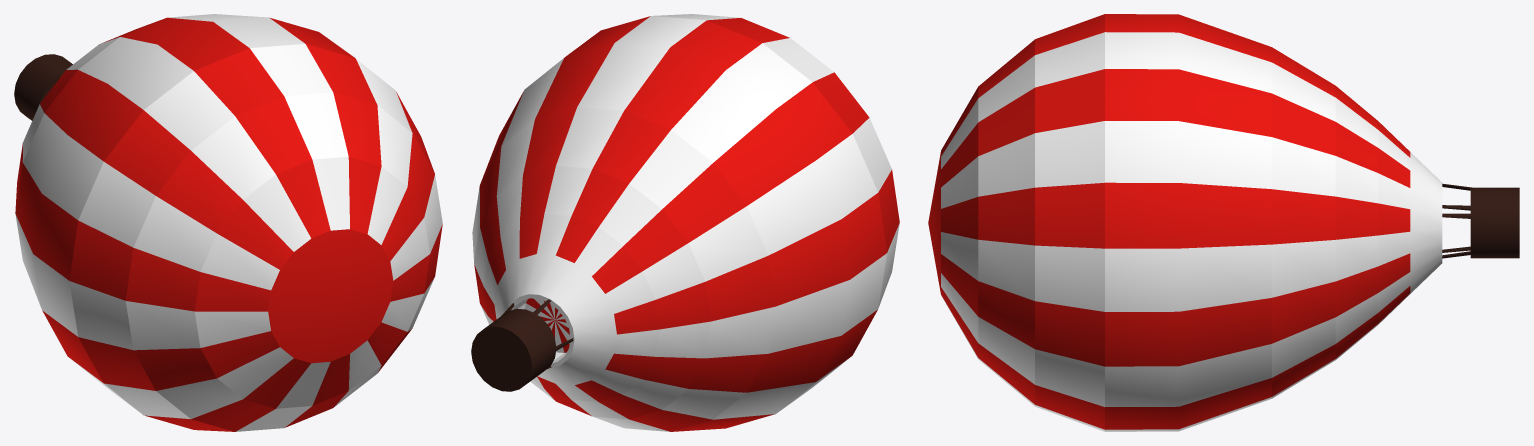
Rendered from HotAirBalloon_02(1).obj.
3 views of the same model, side by side, from view 1: azimuth 30°, elevation 25°; view 2: azimuth 150°, elevation 25°; view 3: azimuth 270°, elevation 25° (orthographic).
Visible parts, largest first — view 1: pSphere16; view 2: pSphere16; view 3: pSphere16.
Boxes of the visible parts, <box> form: pSphere16: <box>14,14,442,431</box>; pSphere16: <box>471,14,899,431</box>; pSphere16: <box>928,14,1519,431</box>.
Bounding box in the file's own units: 310 × 310 × 436.
